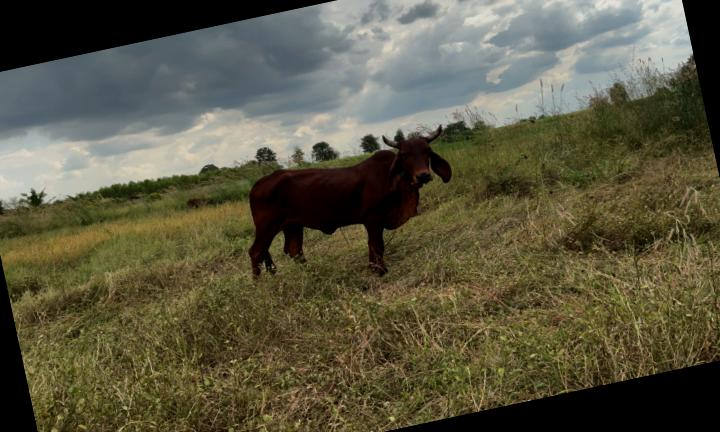Brahman: (249, 127, 451, 278)
